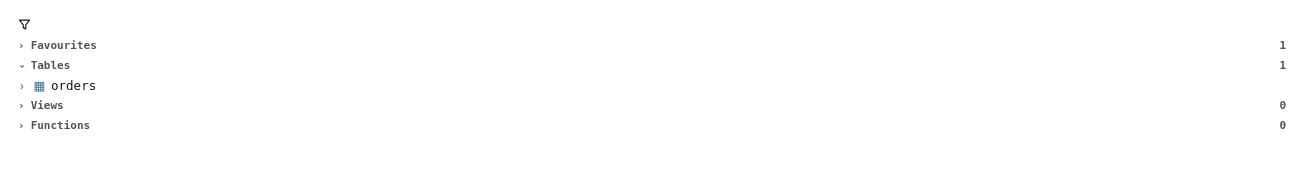
keeps favourites collapsed until expanded and shows no recent list
Click the button "› Favourites 1".
click(64, 45)  # box [12, 36, 1292, 56]
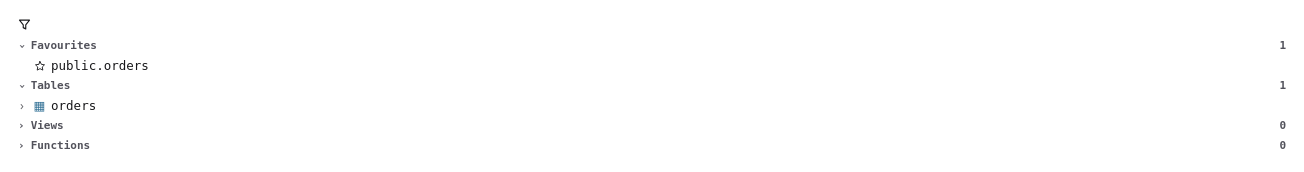
Expected: the button "› Favourites 1" is expanded, [12, 36, 1292, 56]
